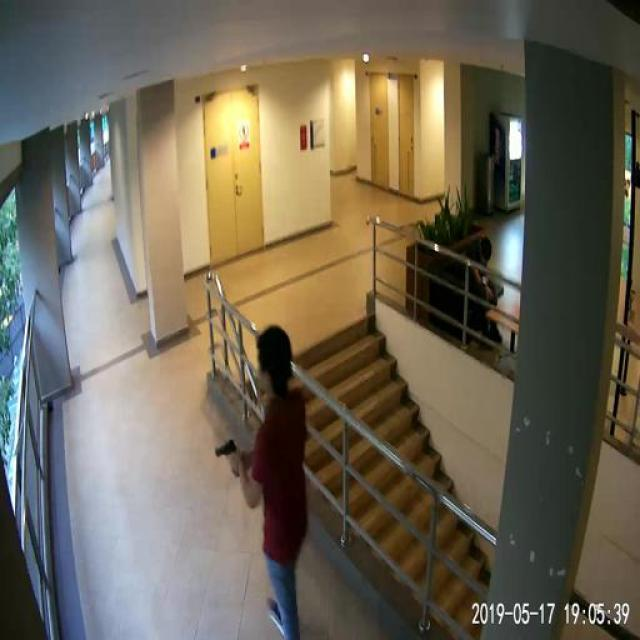Gun: (207, 428, 240, 474)
